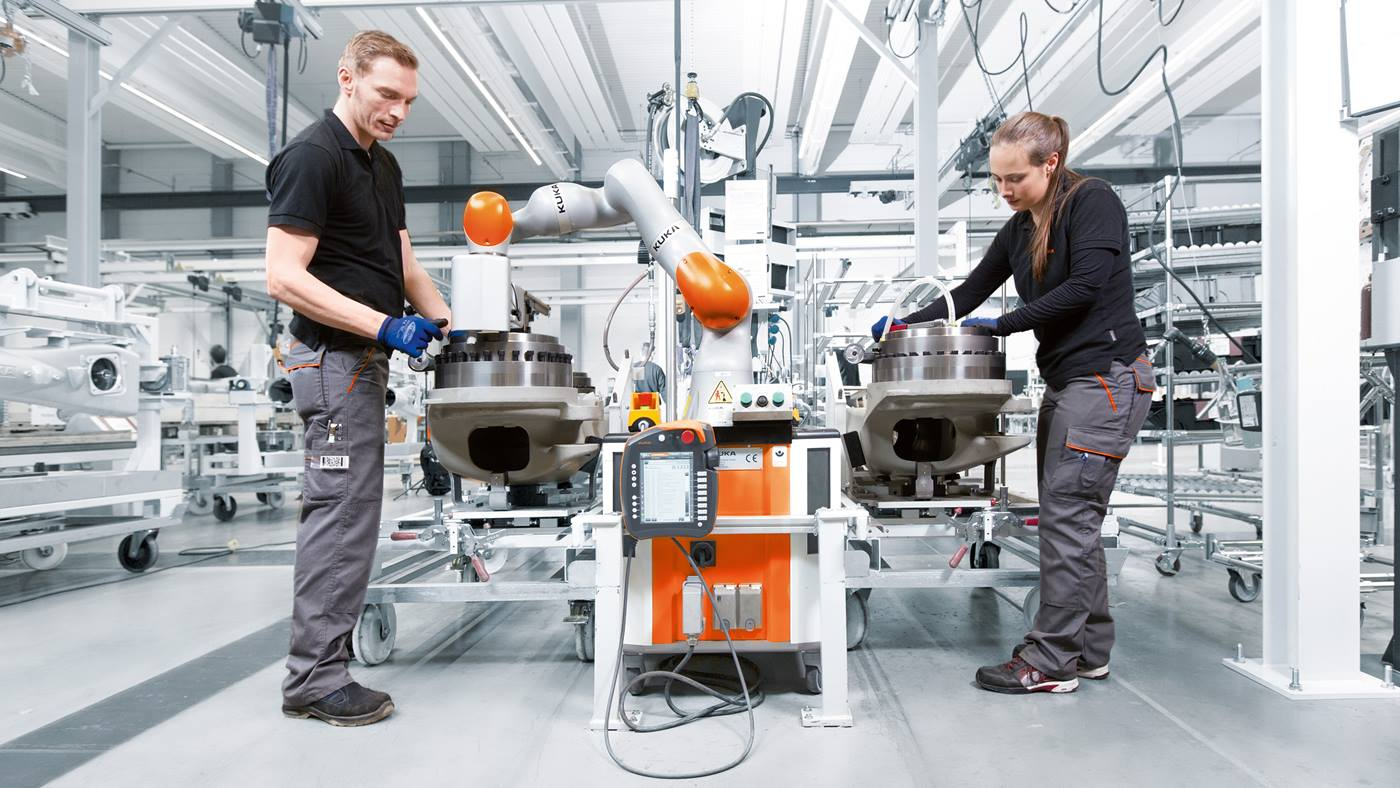person: (872, 113, 1158, 696), (262, 28, 452, 732)
robot: (451, 158, 761, 432)
